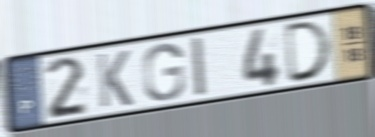2: (43, 55, 91, 122)
4: (240, 25, 282, 89)
D: (284, 18, 336, 86)
G: (141, 41, 187, 103)
I: (189, 34, 209, 100)
K: (94, 48, 135, 110)
